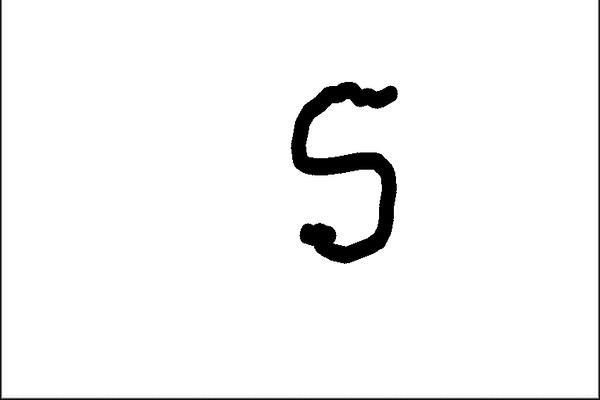S: (276, 72, 415, 274)
